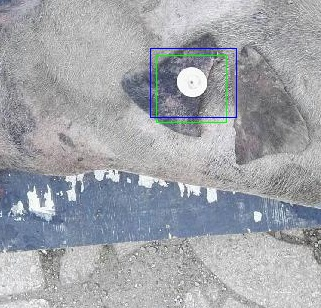text: (156, 55, 226, 122)
